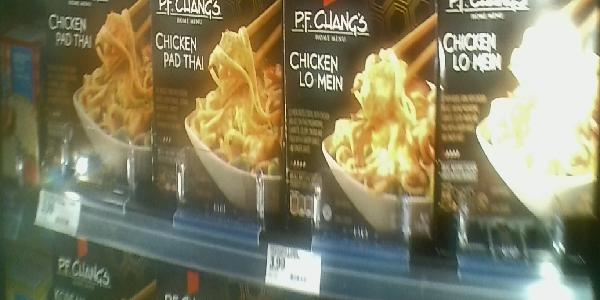pizza1: (437, 1, 600, 259), (286, 1, 436, 254), (152, 1, 286, 222), (41, 1, 152, 203)
